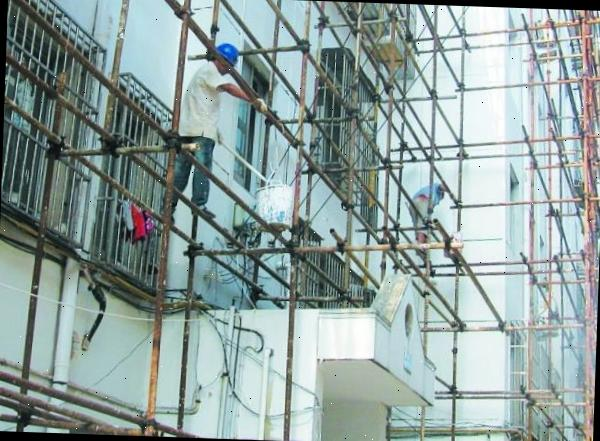helmet: (210, 40, 241, 64)
no_wear: (181, 70, 220, 139)
